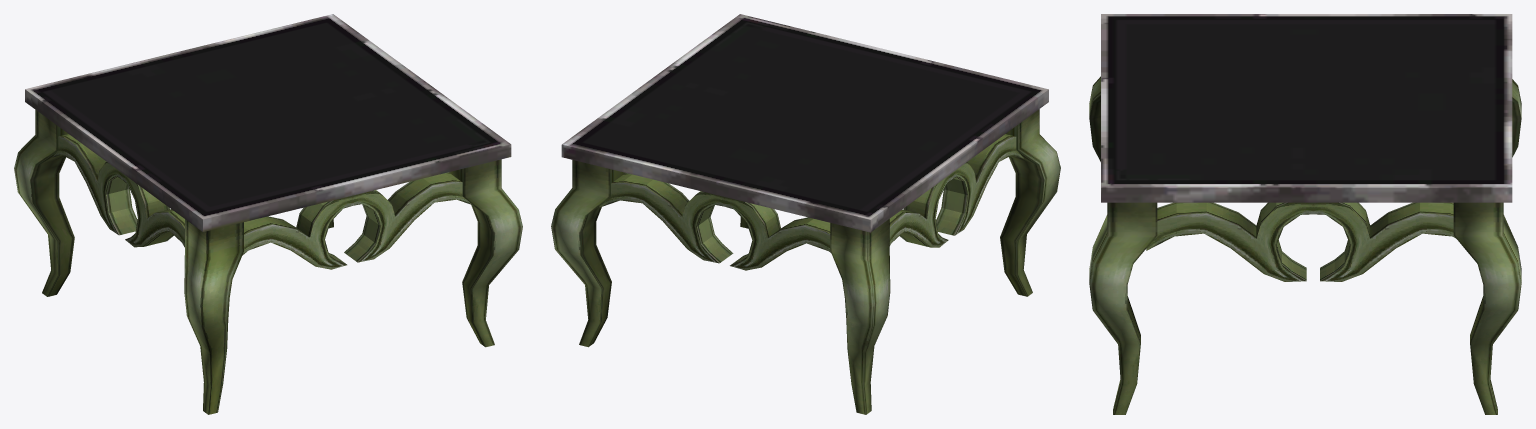
The model's file is furni_0201211_03.FBX.
3 views of the same model, side by side, from view 1: azimuth 30°, elevation 25°; view 2: azimuth 150°, elevation 25°; view 3: azimuth 270°, elevation 25° (orthographic). The views are drawn at different scales.
Parts seen in each view (by area): view 1: furni_0201211_03; view 2: furni_0201211_03; view 3: furni_0201211_03.
Boxes of the visible parts, bbox=[...] form: furni_0201211_03: bbox=[14, 14, 522, 414]; furni_0201211_03: bbox=[551, 14, 1060, 414]; furni_0201211_03: bbox=[1089, 14, 1521, 414].
Bounding box in the file's own units: 83.56 × 50.06 × 84.04.
